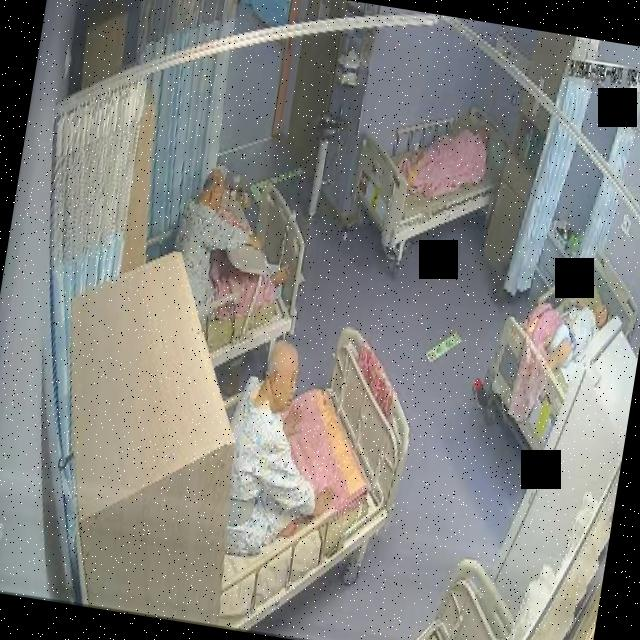bed: (183, 313, 425, 640), (474, 238, 640, 472), (154, 178, 312, 378), (348, 88, 512, 266)
lie: (548, 291, 616, 378)
patient: (211, 338, 355, 573), (162, 160, 306, 334), (547, 290, 615, 378)
sit: (211, 338, 355, 574), (162, 160, 304, 336)
